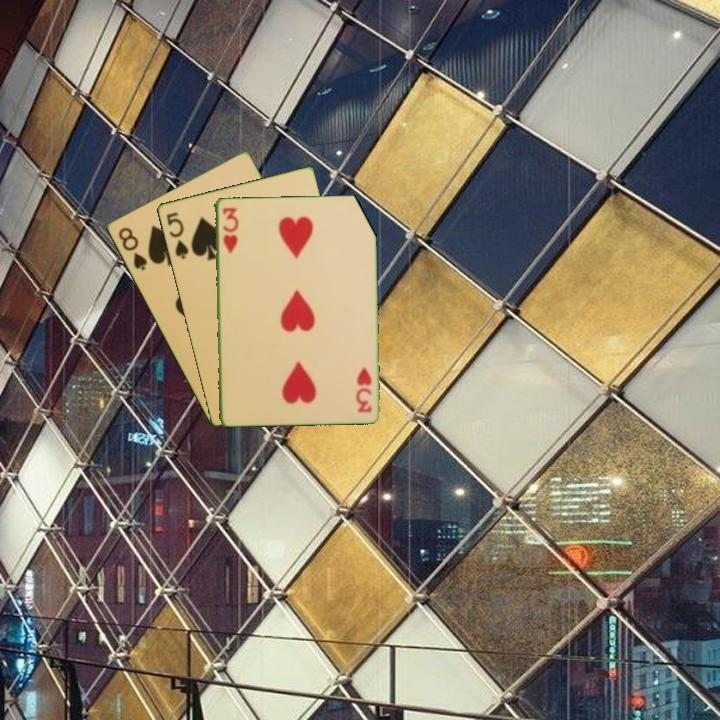3h: (219, 204, 240, 256), (353, 363, 374, 415)
5s: (162, 208, 191, 262)
8s: (114, 223, 150, 273)
